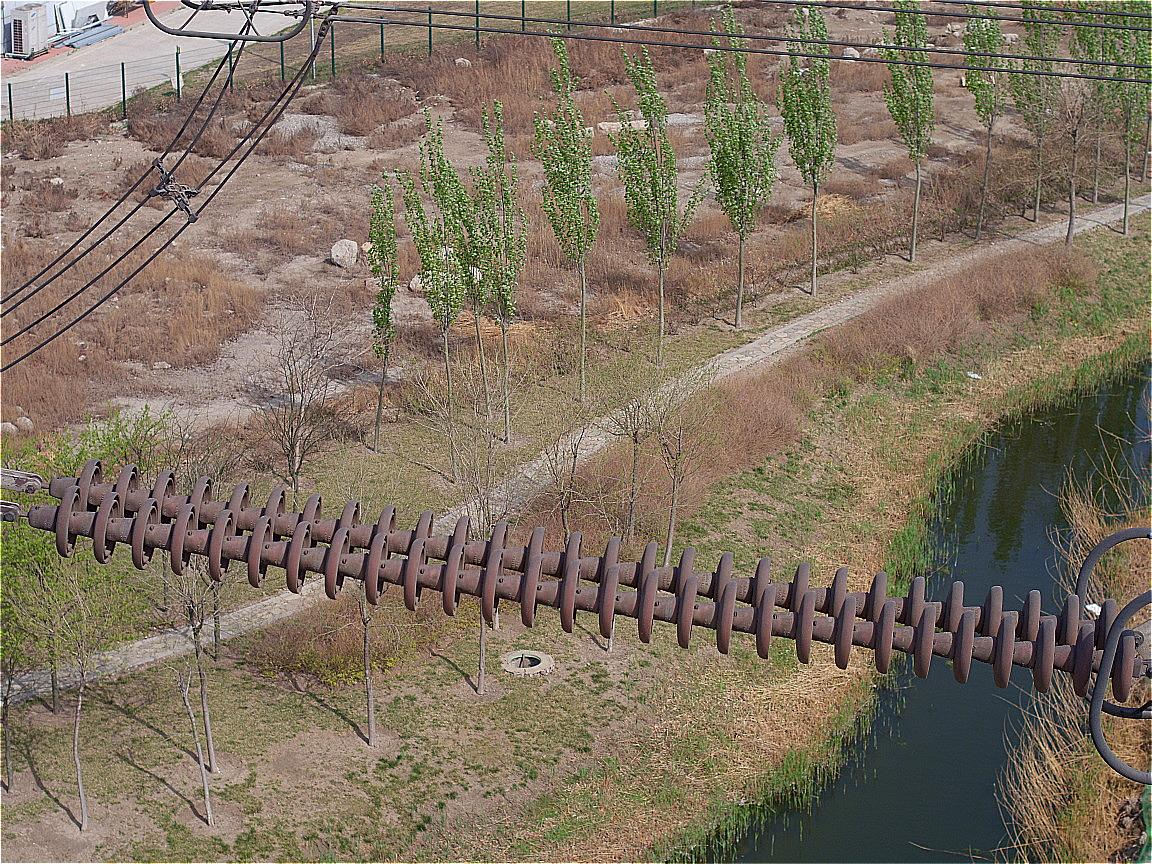insultor1: (54, 459, 1095, 702)
